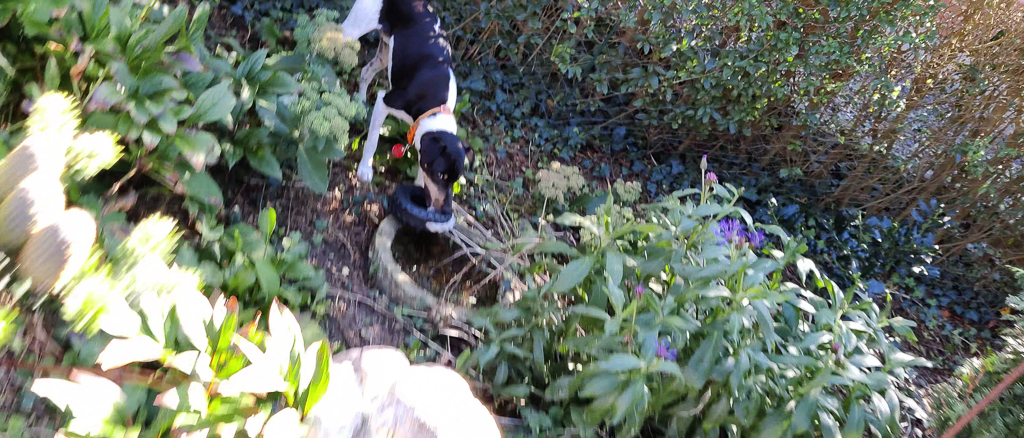Dog: (320, 0, 471, 225)
